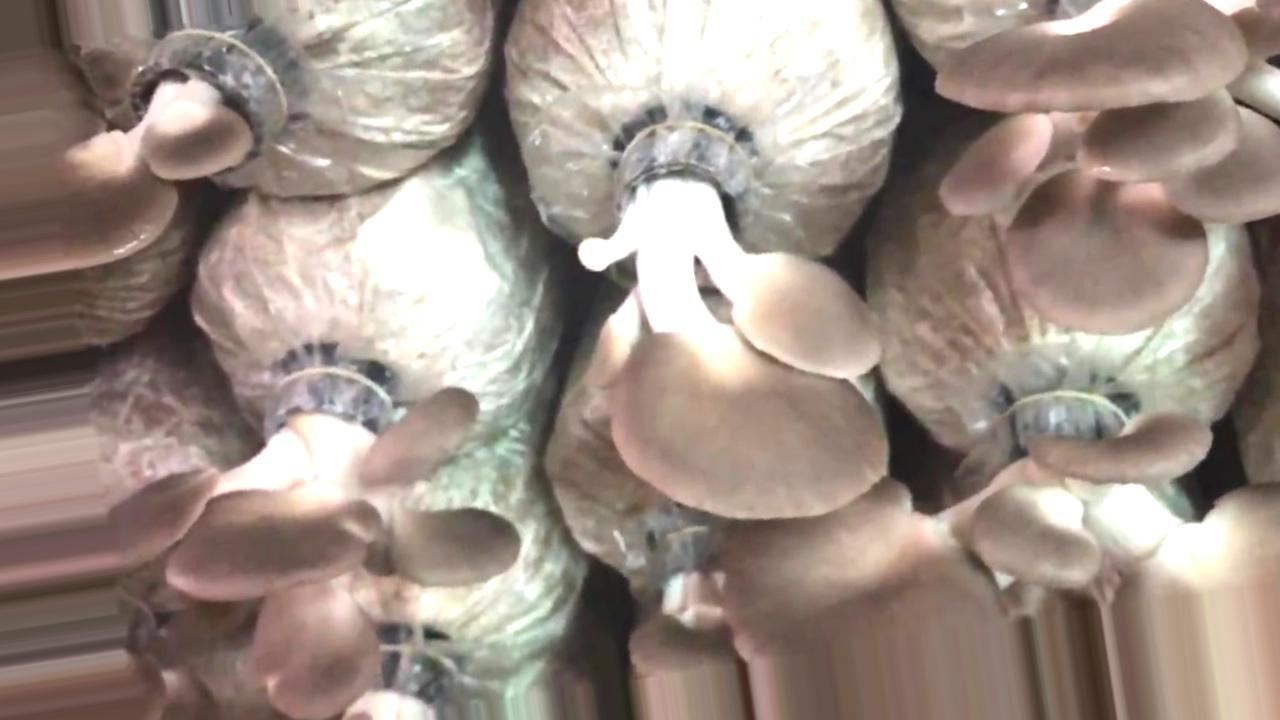nam: (1, 357, 518, 719), (721, 420, 1280, 714), (571, 132, 893, 523), (930, 2, 1280, 346), (1, 38, 282, 280), (623, 524, 742, 720)
